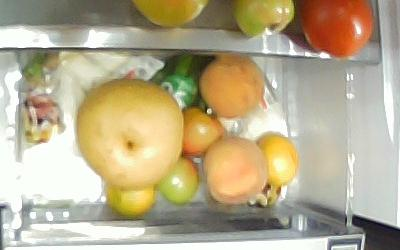peach: (203, 135, 266, 206), (199, 53, 265, 118)
pear: (76, 78, 183, 190)
tangerine: (258, 133, 299, 187), (105, 182, 155, 218)
tomato: (182, 107, 225, 158), (157, 157, 199, 205)
